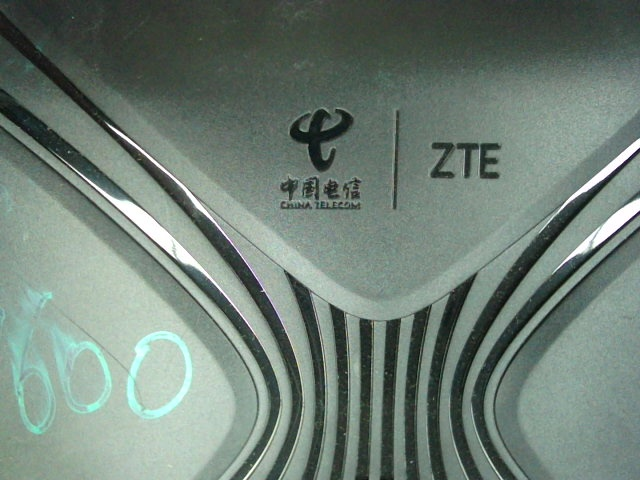AX_ZTEChinaTelecom: (262, 106, 506, 210)
